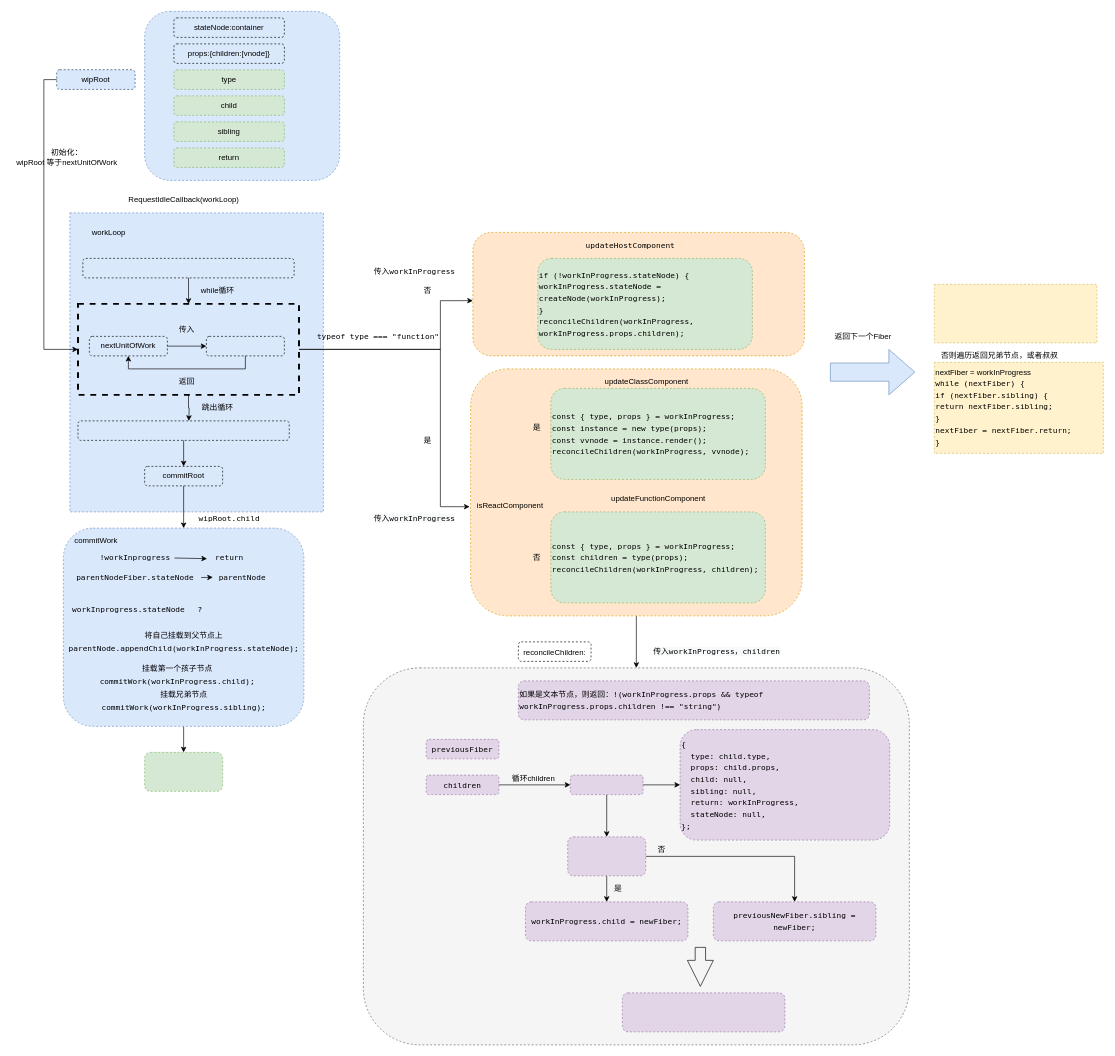
Some shapes in this 1115 by 1056 pixel diagram are drawn without their labels. The box of each missing label's shape, as (x1, y1, x2, y2) in pixels:
!nextUnitOfWork&&wipRoot: (77, 420, 289, 440)
newFiber: (570, 774, 643, 795)
nextUnitOfWork&&IdleDealine.timeRemaing()>0: (82, 258, 294, 278)
performUnitOfWork: (206, 336, 284, 356)
previousNewFiber = newFiber;: (622, 992, 785, 1032)
wipRoot = null;: (144, 752, 223, 791)
如果index 索引等于0: (567, 836, 646, 876)
如果： workInProgress。child 存在，则返回: (934, 284, 1097, 343)
